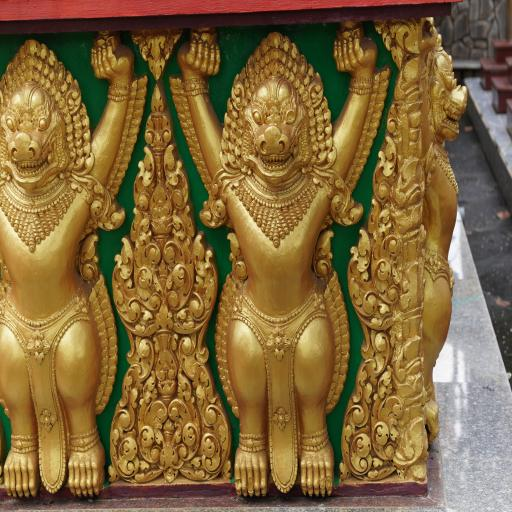la: (191, 357, 234, 483), (349, 228, 399, 334), (338, 361, 378, 481), (107, 355, 145, 481), (108, 232, 150, 336), (177, 234, 220, 334), (133, 372, 166, 469), (168, 371, 201, 465), (132, 223, 164, 311), (162, 227, 195, 310), (164, 144, 196, 226), (140, 84, 178, 150), (375, 16, 422, 69), (373, 386, 406, 461), (132, 25, 178, 77), (128, 146, 154, 235), (371, 141, 400, 204), (367, 200, 394, 238), (386, 96, 404, 152)
than: (166, 31, 383, 506), (1, 29, 150, 502), (416, 24, 474, 472)
